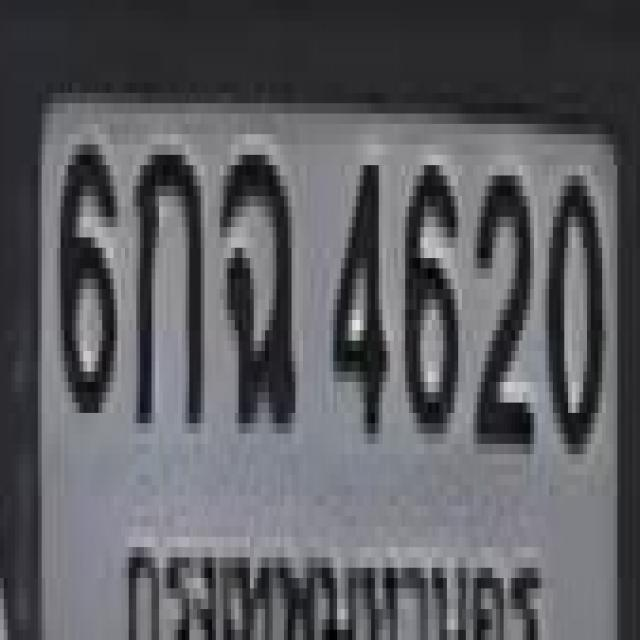-: (220, 139, 292, 418), (132, 139, 200, 418)
0: (546, 160, 598, 439)
2: (472, 160, 528, 428)
4: (330, 155, 382, 423)
6: (56, 134, 114, 403), (402, 150, 454, 418)
